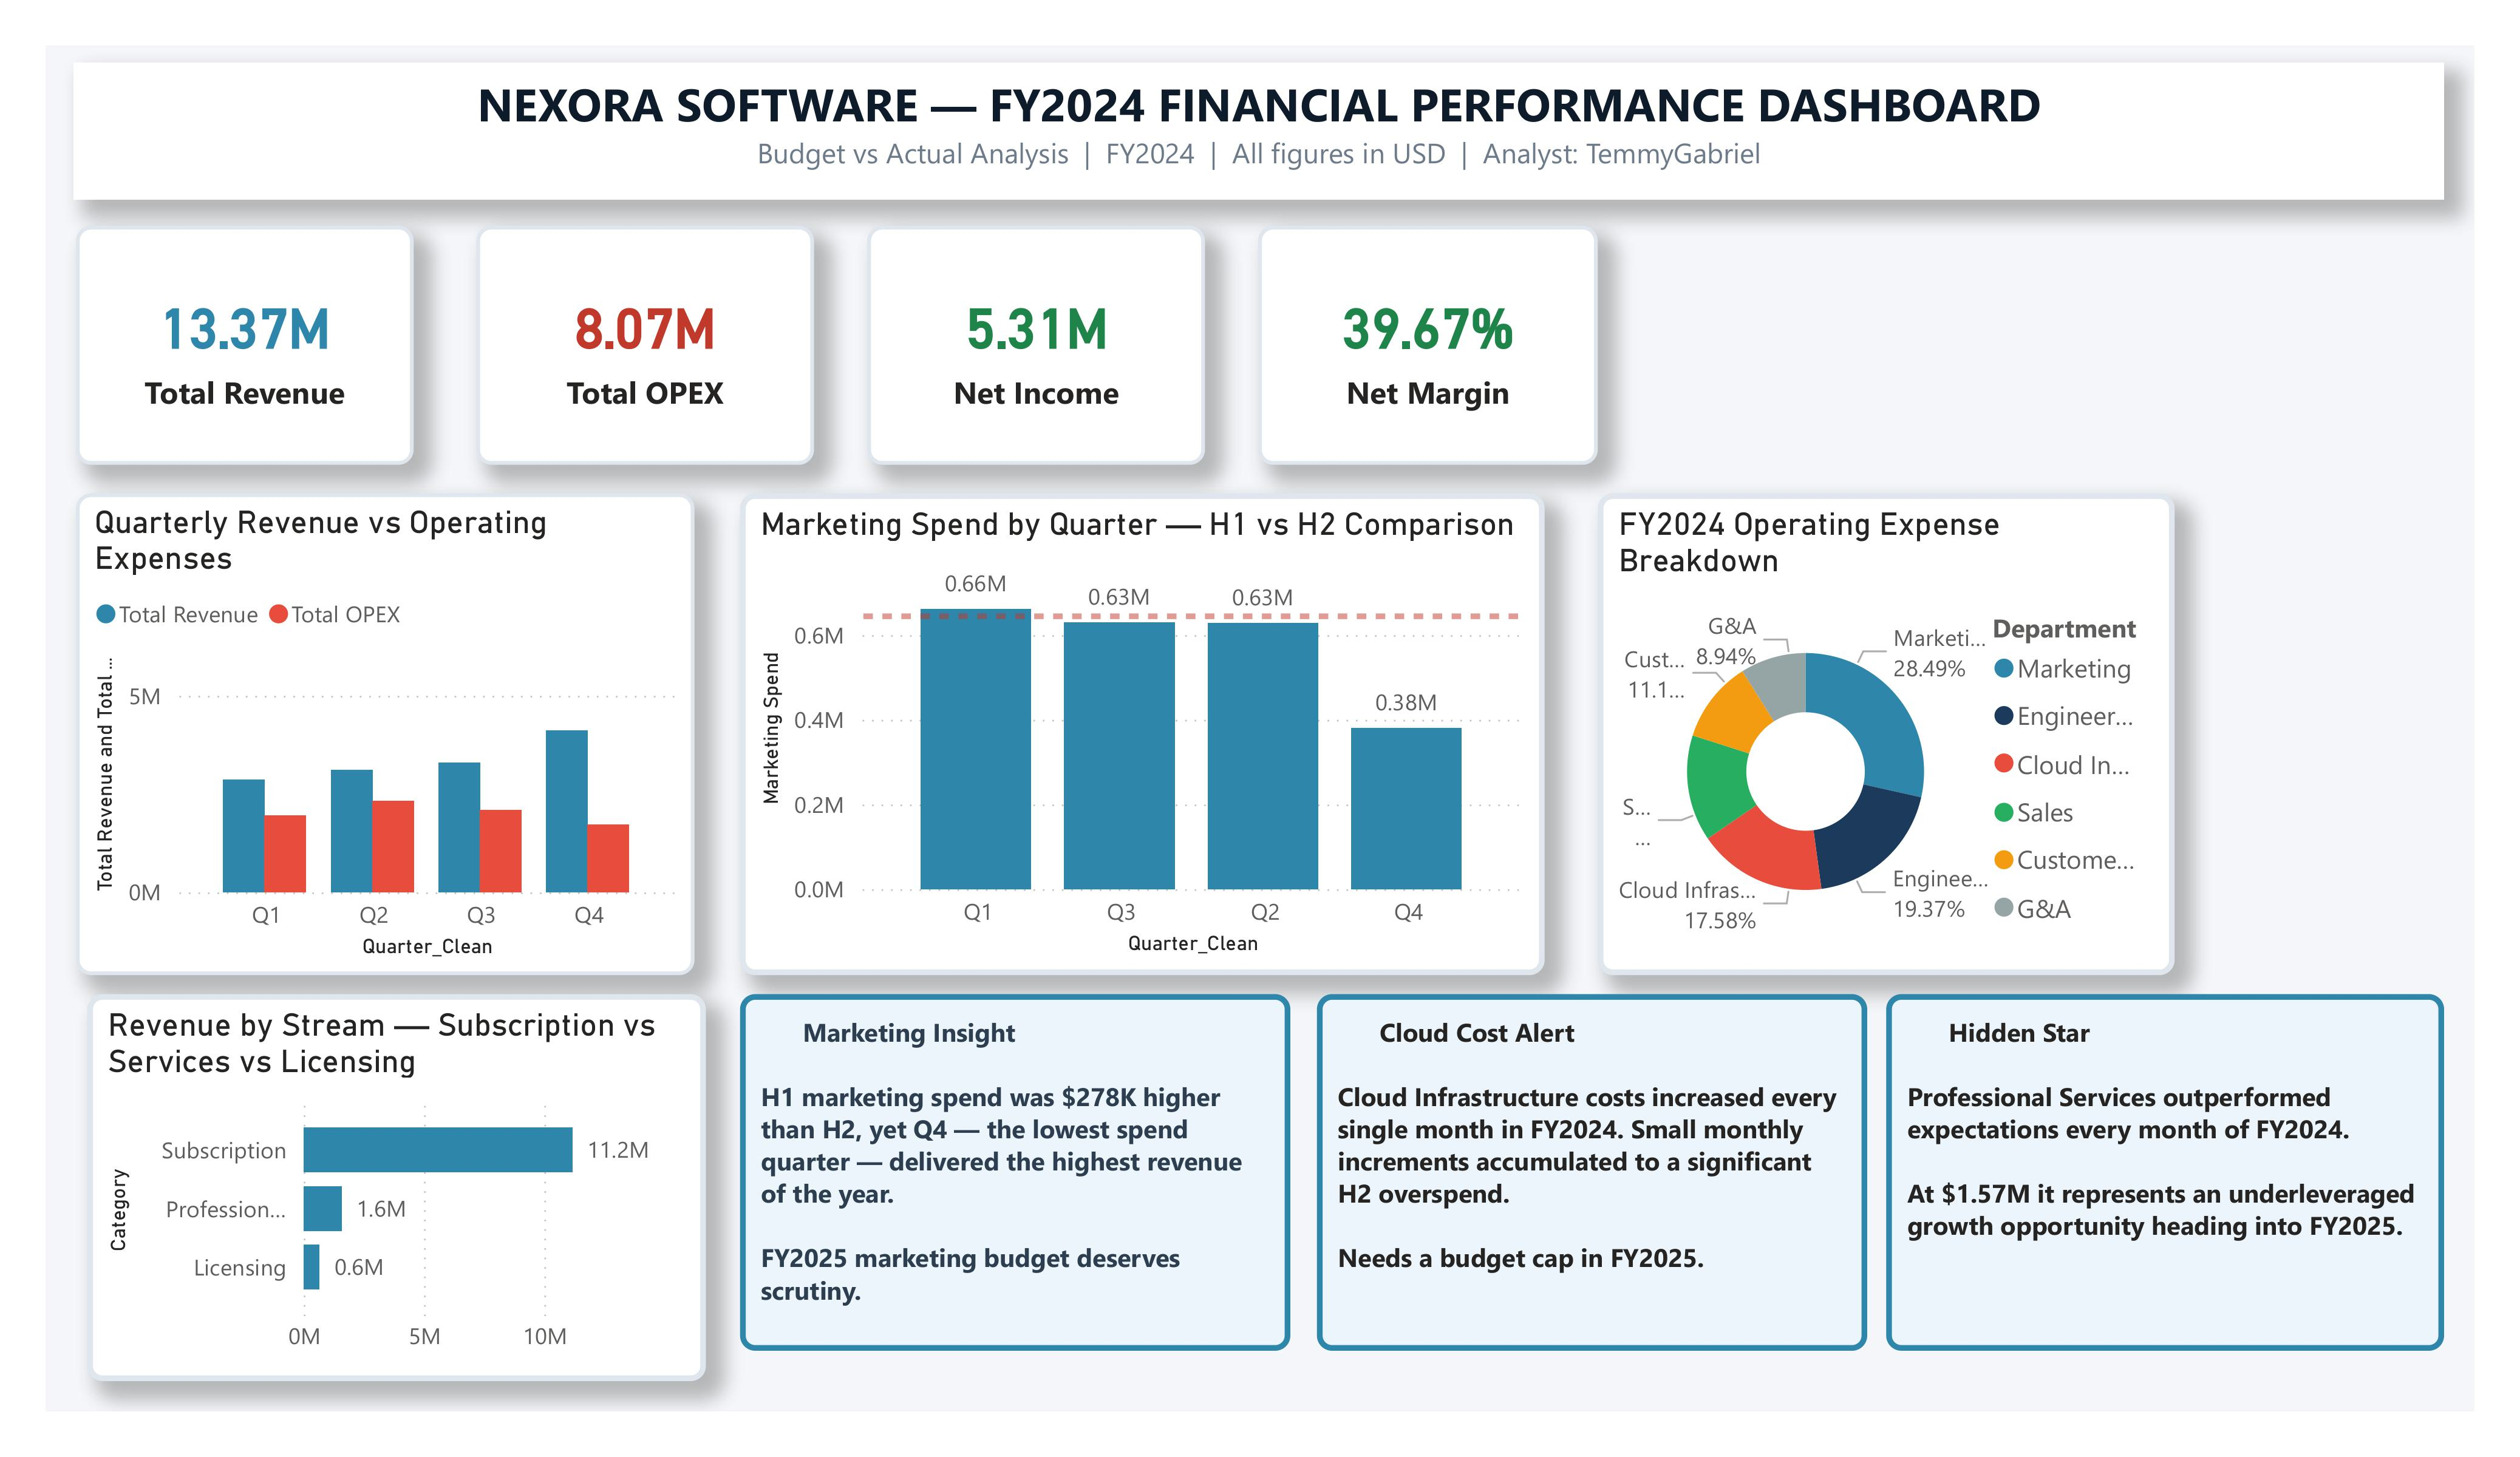

Layout of this report page (visuals, bound fields, positions):
{"tool":"powerbi","page":{"name":"Nexora FY2024 Dashboard","canvas":[1280,720],"ordinal":0},"visuals":[{"type":"textbox","box":[15.1,9.4,1249.1,71.8],"z":0},{"type":"card","fields":{"Values":["nexora_cleaned.Total Revenue"]},"box":[15.9,95.4,178.1,125.7],"z":1000},{"type":"card","fields":{"Values":["nexora_cleaned.Total OPEX"]},"box":[227.5,95.4,178,125.7],"z":2000},{"type":"card","fields":{"Values":["nexora_cleaned.Net Income"]},"box":[432.6,95.4,178,125.7],"z":3000},{"type":"card","fields":{"Values":["nexora_cleaned.Net Margin"]},"box":[639.4,95.4,178.1,125.7],"z":4000},{"type":"clusteredColumnChart","title":"Quarterly Revenue vs Operating Expenses","fields":{"Category":["nexora_cleaned.Quarter_Clean"],"Y":["nexora_cleaned.Total Revenue","nexora_cleaned.Total OPEX"]},"box":[16,236,326,254],"z":5000},{"type":"clusteredColumnChart","title":"Marketing Spend by Quarter — H1 vs H2 Comparison","fields":{"Category":["nexora_cleaned.Quarter_Clean"],"Y":["nexora_cleaned.Marketing Spend"]},"box":[366,236,424,254],"z":6000},{"type":"donutChart","title":"FY2024 Operating Expense Breakdown","fields":{"Category":["nexora_cleaned.Dept_Clean"],"Y":["nexora_cleaned.Dept Spend"]},"box":[818,236,304,254],"z":7000},{"type":"clusteredBarChart","title":"Revenue by Stream — Subscription vs Services vs Licensing","fields":{"Category":["nexora_cleaned.Category"],"Y":["nexora_cleaned.Total Revenue"]},"box":[22,500,326,204],"z":8000},{"type":"textbox","box":[365.6,500,290,187.5],"z":9000},{"type":"textbox","box":[670.3,500,290,187.5],"z":9001},{"type":"textbox","box":[970.3,500,293.8,187.5],"z":9002}]}

Visuals, with their boxes in screenshot pixels (x1, y1, x2, y2):
textbox: detection(87, 76, 2426, 211)
card - nexora_cleaned.Total Revenue: detection(89, 237, 423, 473)
card - nexora_cleaned.Total OPEX: detection(485, 237, 819, 473)
card - nexora_cleaned.Net Income: detection(869, 237, 1202, 473)
card - nexora_cleaned.Net Margin: detection(1256, 237, 1590, 473)
"Quarterly Revenue vs Operating Expenses" clusteredColumnChart: detection(89, 501, 700, 976)
"Marketing Spend by Quarter — H1 vs H2 Comparison" clusteredColumnChart: detection(744, 501, 1539, 976)
"FY2024 Operating Expense Breakdown" donutChart: detection(1591, 501, 2161, 976)
"Revenue by Stream — Subscription vs Services vs Licensing" clusteredBarChart: detection(100, 995, 711, 1377)
textbox: detection(744, 995, 1287, 1347)
textbox: detection(1314, 995, 1858, 1347)
textbox: detection(1876, 995, 2426, 1347)
